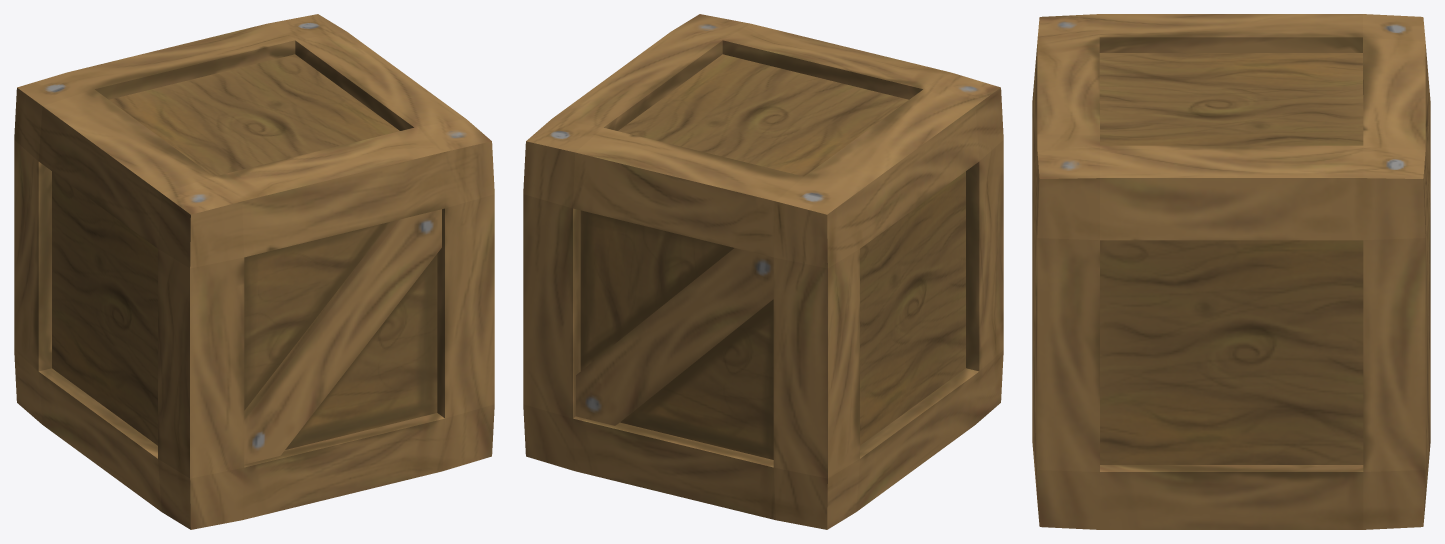
The model's file is Caixa.fbx.
3 renders of one model, left to right at view 1: azimuth 30°, elevation 25°; view 2: azimuth 150°, elevation 25°; view 3: azimuth 270°, elevation 25°, orthographic. The views are drawn at different scales.
Parts seen in each view (by area): view 1: Caixa; view 2: Caixa; view 3: Caixa.
Part boxes in pixels (x1,y1,x2,y2): Caixa: (14, 14, 494, 529); Caixa: (523, 14, 1003, 529); Caixa: (1032, 14, 1430, 529).
Size of the model in its own units: 70.76 by 69.87 by 70.76.
